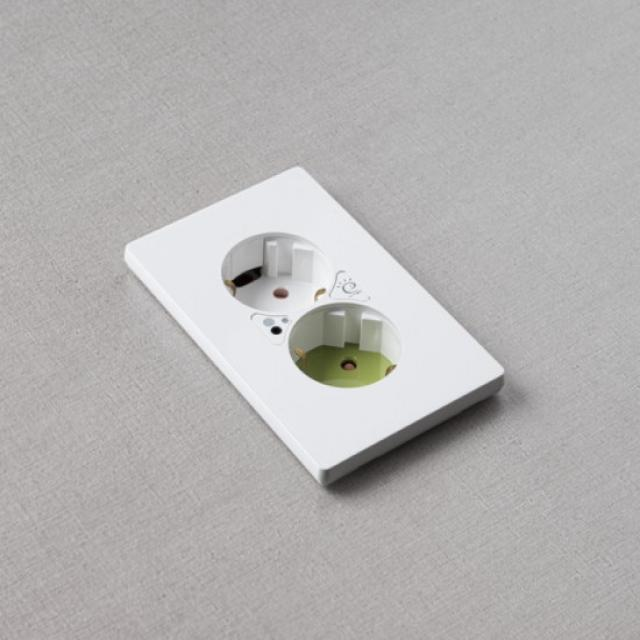typeb: (117, 127, 565, 462)
